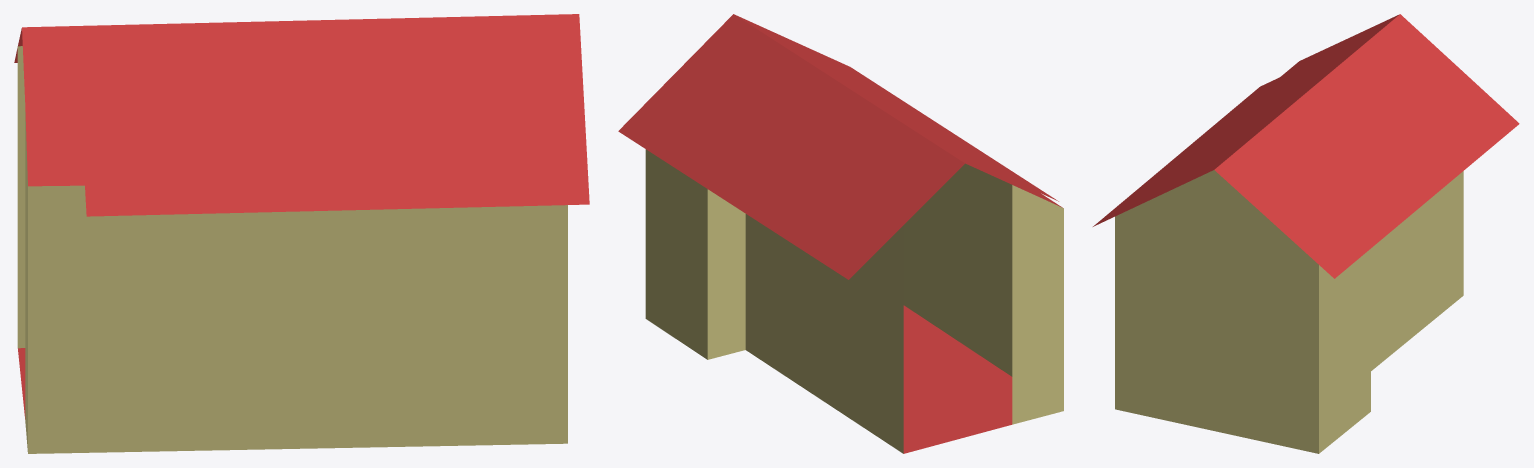
3 views of the same model, side by side, from view 1: azimuth 30°, elevation 25°; view 2: azimuth 150°, elevation 25°; view 3: azimuth 270°, elevation 25° (orthographic). The views are drawn at different scales.
Size of the model in its own units: 20.55 by 18.2 by 12.57.
